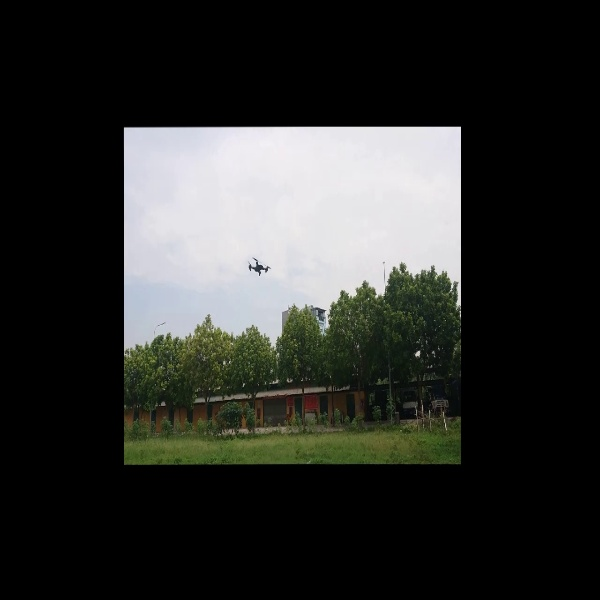drone: (242, 256, 276, 278)
